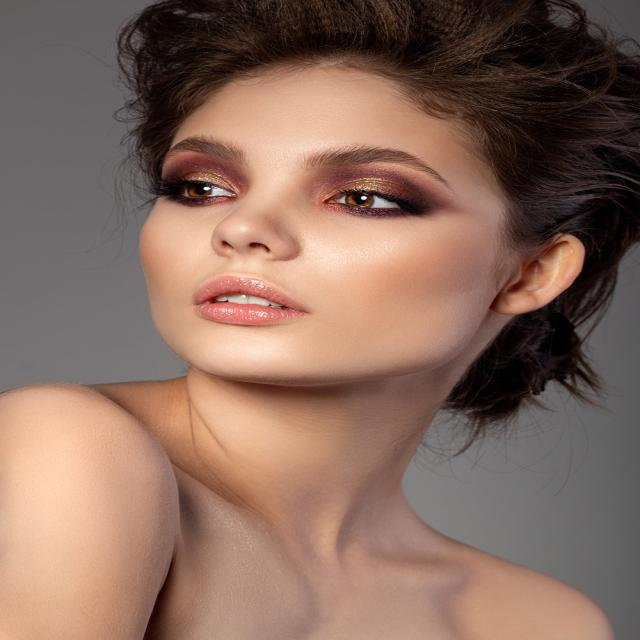earlobe: (491, 289, 533, 317)
eye: (323, 188, 415, 215), (165, 176, 242, 202)
nose: (206, 235, 290, 274)
wholeear: (492, 232, 585, 316)
